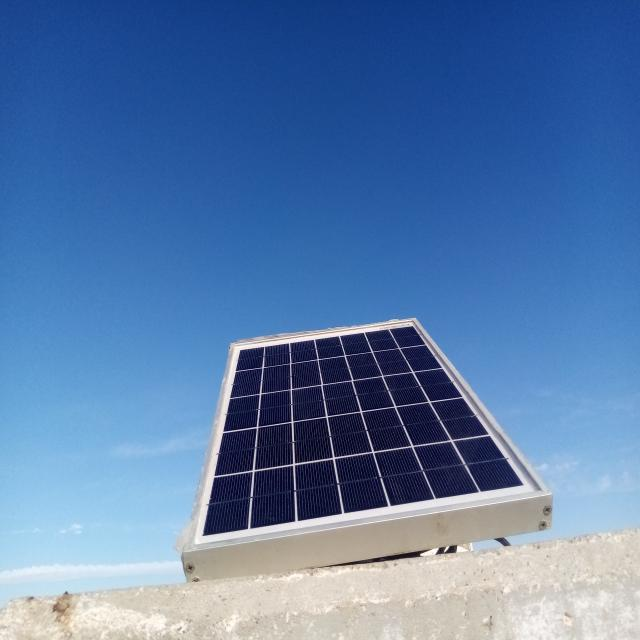no faulty: (184, 319, 547, 555)
